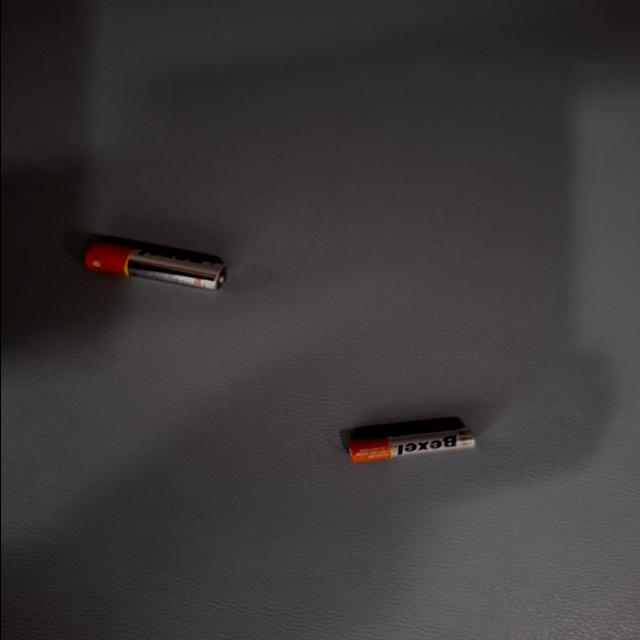AAA: (108, 310, 176, 416), (353, 122, 405, 222)
